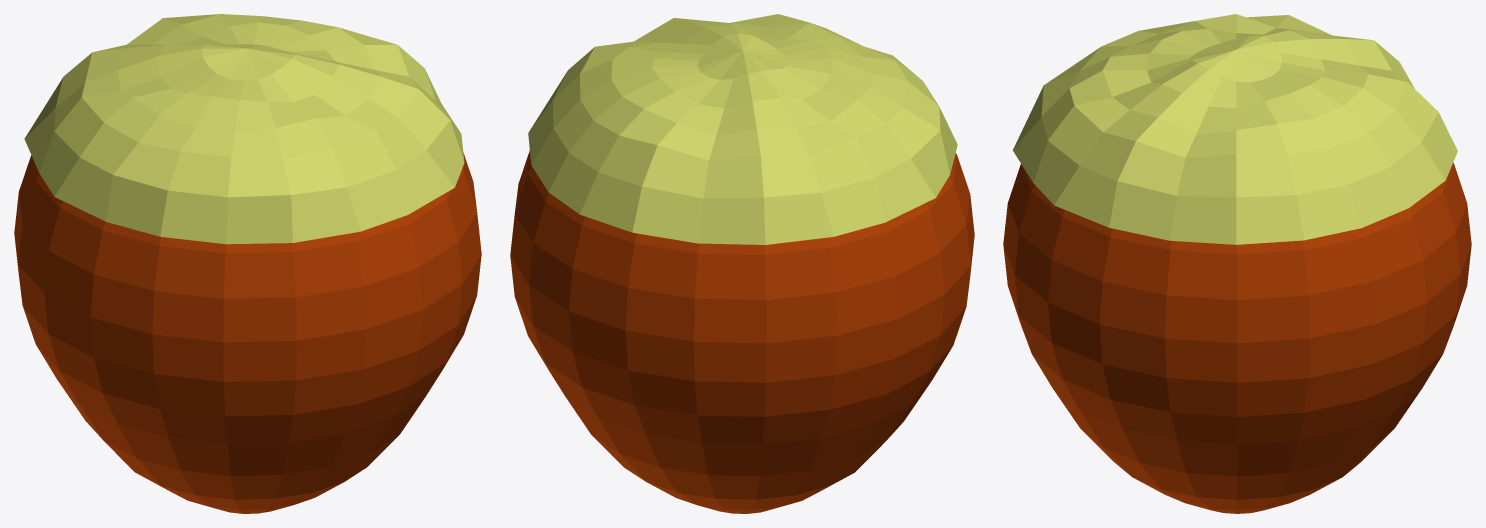
The picture shows the model from 3 angles, left to right: view 1: azimuth 30°, elevation 25°; view 2: azimuth 150°, elevation 25°; view 3: azimuth 270°, elevation 25°; orthographic projection.
Parts seen in each view (by area): view 1: Sphere, Sphere.001; view 2: Sphere, Sphere.001; view 3: Sphere, Sphere.001.
Boxes of the visible parts, x1,y1,x2,y2 form: Sphere: (14,152,481,513); Sphere.001: (24,14,464,244); Sphere: (510,150,974,513); Sphere.001: (528,14,957,244); Sphere: (1003,162,1471,513); Sphere.001: (1013,14,1457,244).
Size of the model in its own units: 200 by 219 by 200.
